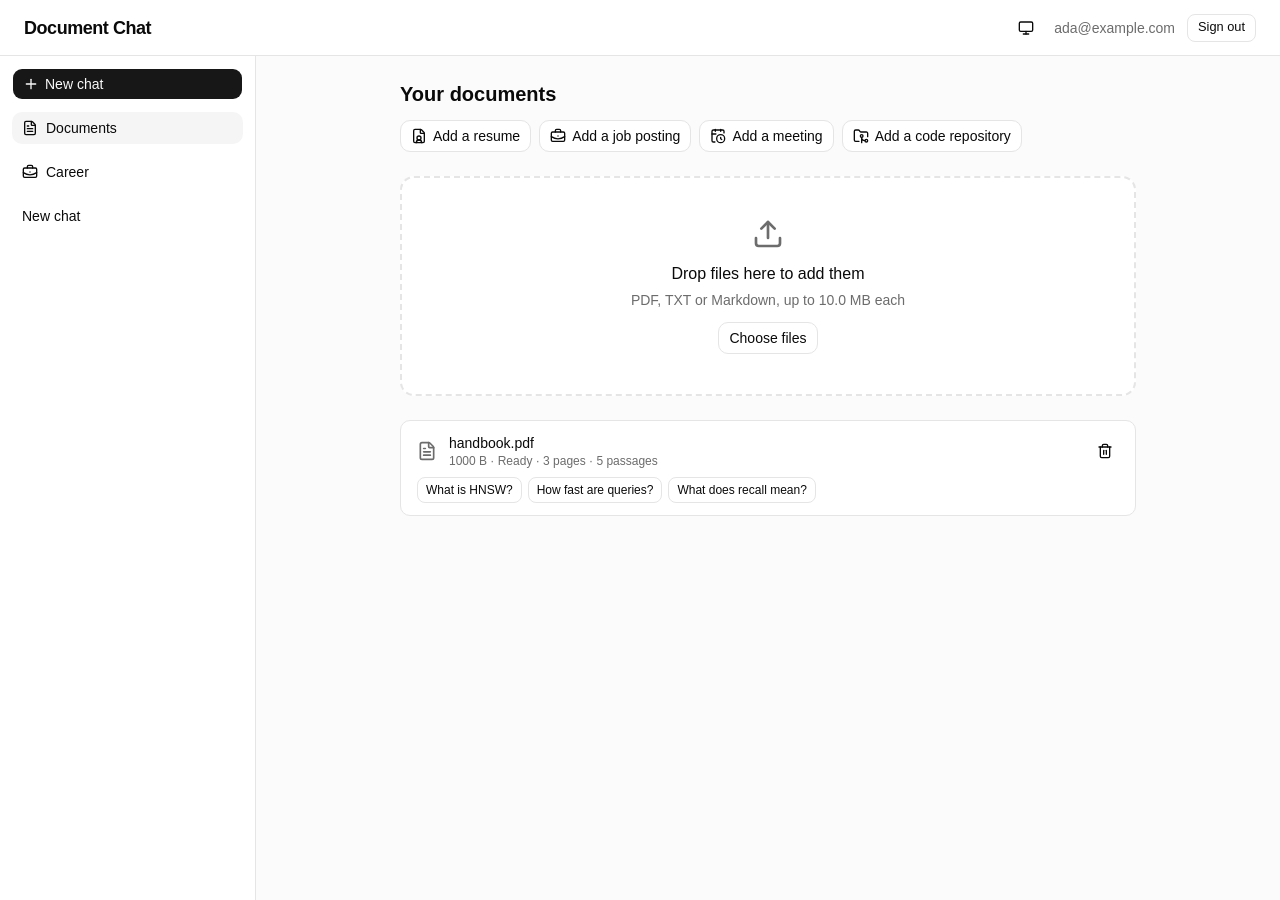
Test: suggested questions on the documents page › says so when the chat cannot be started
Click the button "What is HNSW?" at (469, 490), box [417,477,522,503]
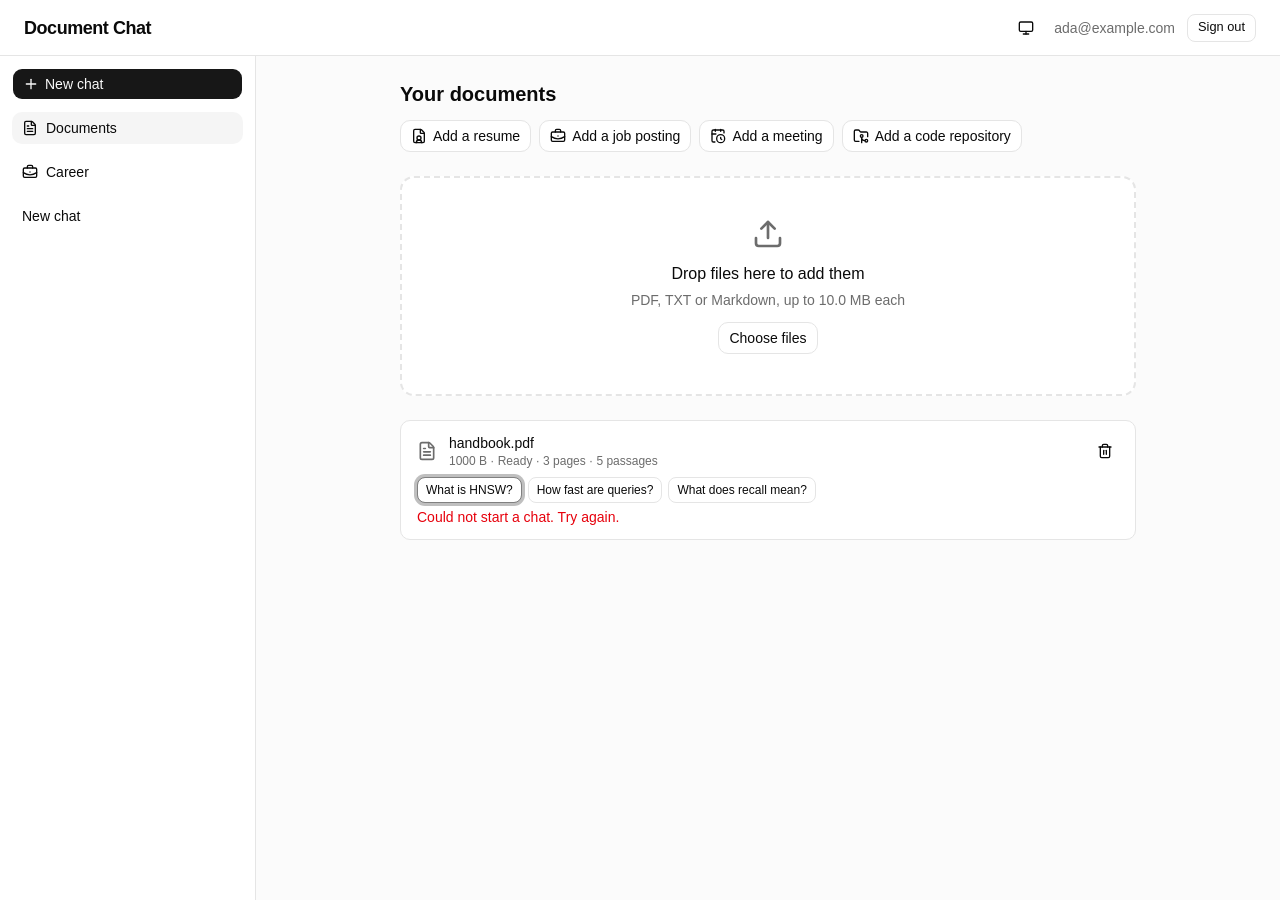
Now the message shows "Could not start a chat", box [417,509,619,525]
